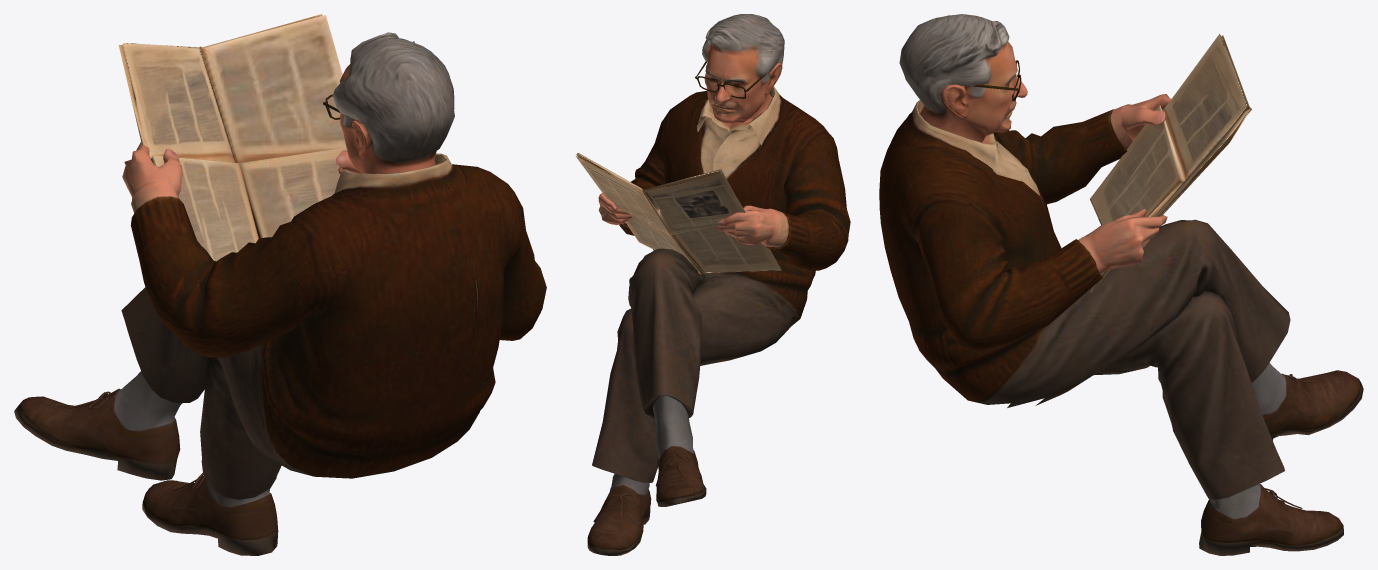
Rendered from man_newspaper.glb.
3 renders of one model, left to right at view 1: azimuth 30°, elevation 25°; view 2: azimuth 150°, elevation 25°; view 3: azimuth 270°, elevation 25°, orthographic. The views are drawn at different scales.
Parts seen in each view (by area): view 1: Body; view 2: Body; view 3: Body.
Boxes of the visible parts, x1=… form: Body: x1=14, y1=14, x2=546, y2=555; Body: x1=576, y1=14, x2=850, y2=555; Body: x1=879, y1=14, x2=1363, y2=555.
Bounding box in the file's own units: 0.7894 × 1.38 × 1.15.
1 material, 1 textured.
